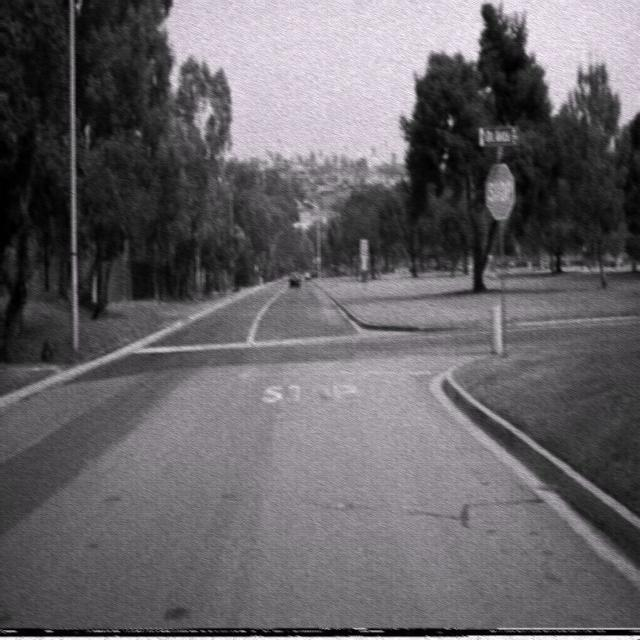stop: (484, 162, 515, 221)
